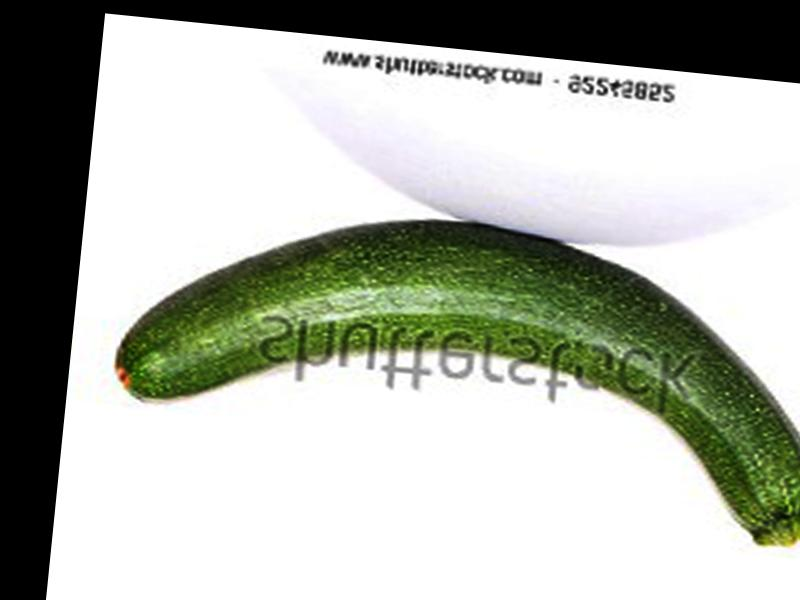Cucumber: (104, 191, 800, 552)
